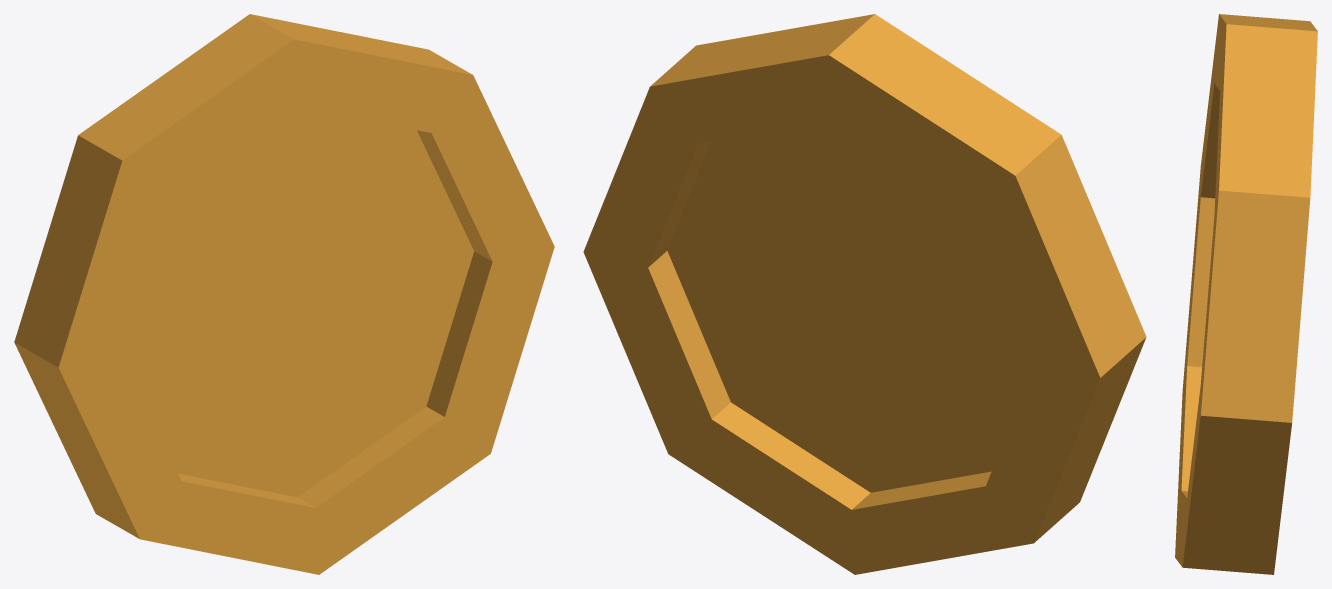
The model's file is coin.FBX.
3 renders of one model, left to right at view 1: azimuth 30°, elevation 25°; view 2: azimuth 150°, elevation 25°; view 3: azimuth 270°, elevation 25°, orthographic. The views are drawn at different scales.
Parts seen in each view (by area): view 1: coin; view 2: coin; view 3: coin.
Boxes of the visible parts, box(x1,y1,x2,y2) form: coin: box(14, 14, 554, 574); coin: box(583, 14, 1146, 574); coin: box(1175, 14, 1317, 574).
Size of the model in its own units: 1.2 by 1.21 by 0.2892.
